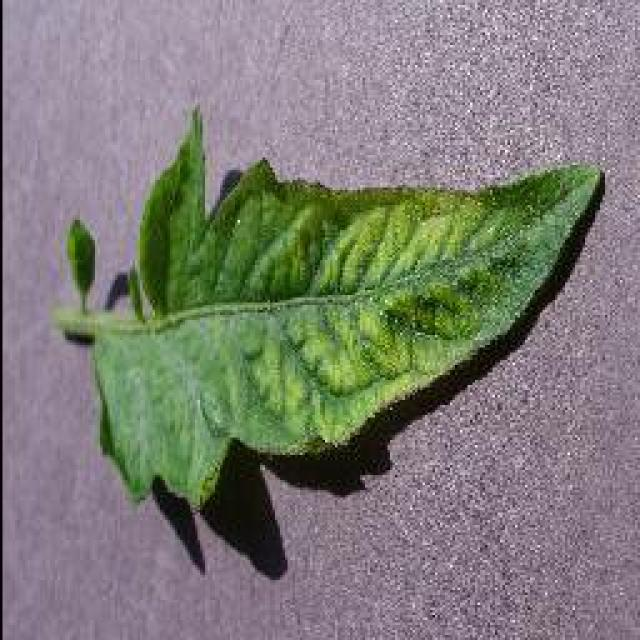Tomato___Tomato_mosaic_virus: (52, 108, 600, 505)
